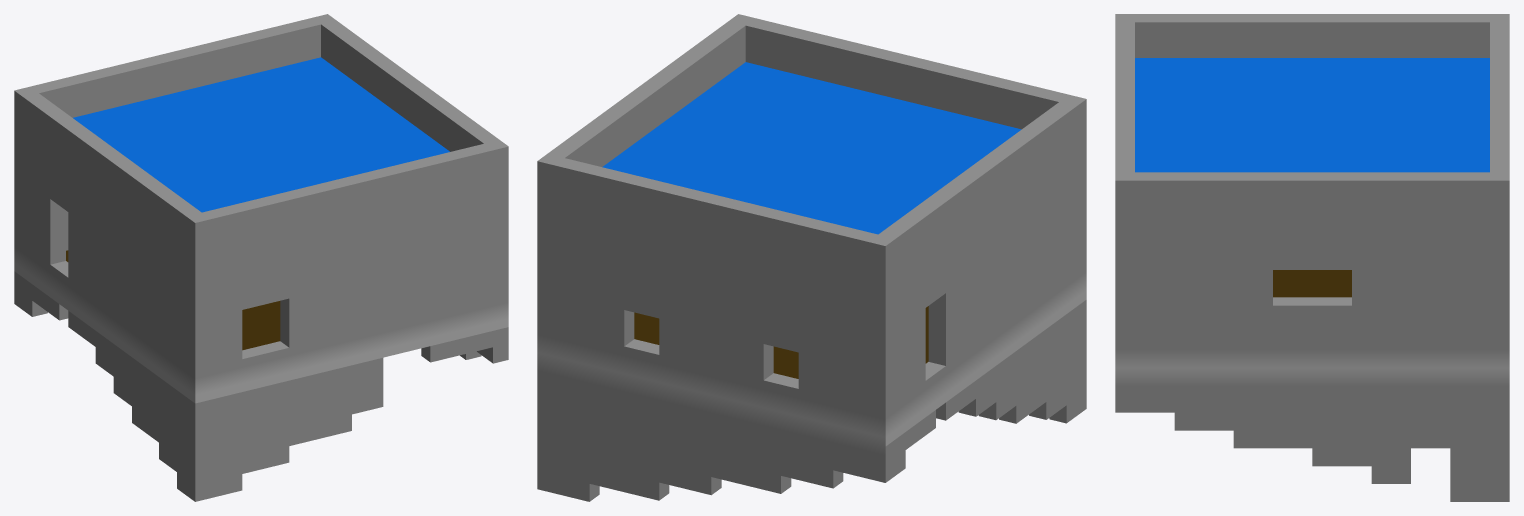
File: Building_part.fbx
3 renders of one model, left to right at view 1: azimuth 30°, elevation 25°; view 2: azimuth 150°, elevation 25°; view 3: azimuth 270°, elevation 25°, orthographic. The views are drawn at different scales.
Parts seen in each view (by area): view 1: Building_part; view 2: Building_part; view 3: Building_part.
Boxes of the visible parts, bbox=[...] form: Building_part: bbox=[14, 14, 508, 501]; Building_part: bbox=[537, 14, 1086, 501]; Building_part: bbox=[1115, 14, 1509, 501].
Size of the model in its own units: 20 by 18 by 20.
